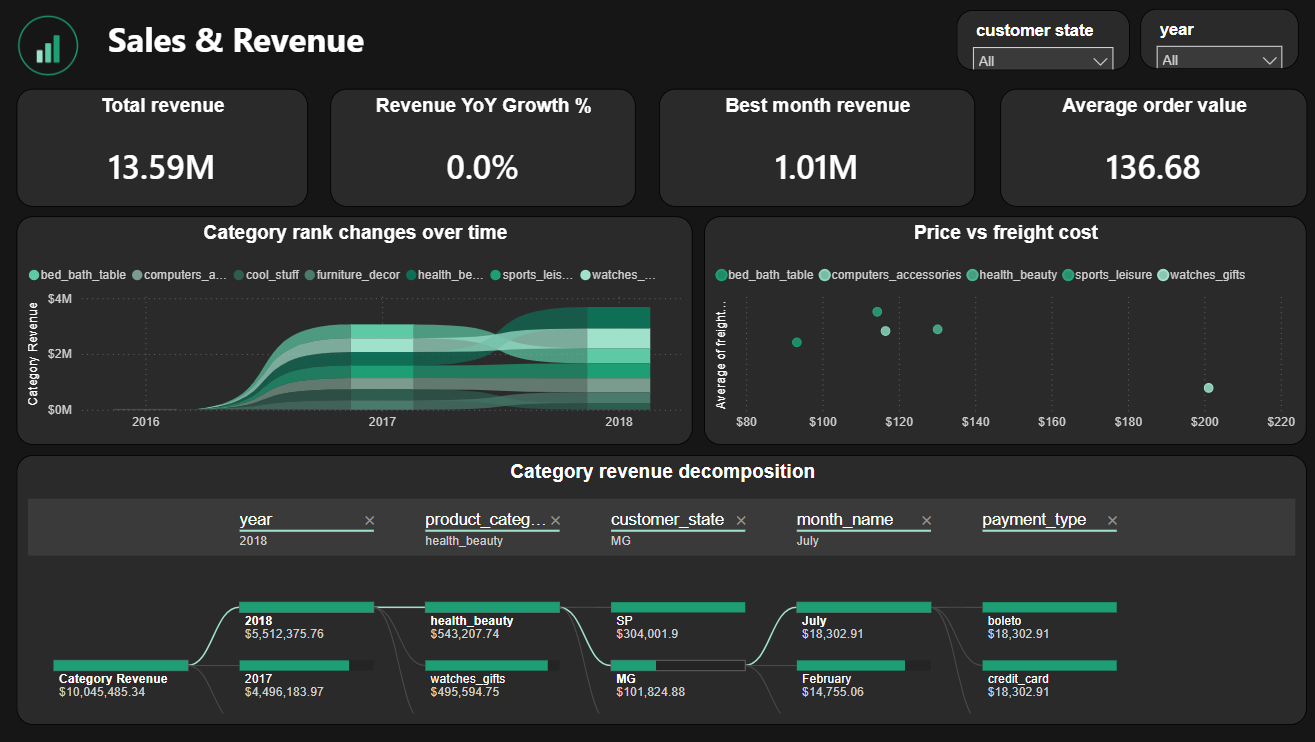

What the dashboard file says about the page in this screenshot:
{"tool":"powerbi","page":{"name":"Sales & Revenue","canvas":[1280,720],"ordinal":2},"visuals":[{"type":"cardVisual","title":"Total revenue","fields":{"Data":["_Measures.Total Revenue"]},"box":[16.7,85.9,282.2,114.2],"z":0},{"type":"cardVisual","title":"Average order value","fields":{"Data":["_Measures.Average Order Value"]},"box":[969.8,85.9,297.6,114.2],"z":1000},{"type":"cardVisual","title":"Best month revenue","fields":{"Data":["_Measures.Best Month Revenue"]},"box":[640.1,85.9,306.6,114.2],"z":2000},{"type":"slicer","fields":{"Values":["dim_date.year"]},"box":[1106.1,8.2,153.7,58.2],"z":3000},{"type":"slicer","fields":{"Values":["dim_customer.customer_state"]},"box":[927.5,10,167.7,58.2],"z":4000},{"type":"ribbonChart","title":"Category rank changes over time","fields":{"Category":["dim_date.year"],"Series":["dim_product.product_category_name_english"],"Y":["_Measures.Category Revenue"]},"box":[16.7,209.1,655.5,221.9],"z":5000},{"type":"decompositionTreeVisual","title":"Category revenue decomposition","fields":{"Analyze":["_Measures.Category Revenue"],"ExplainBy":["dim_date.year","dim_product.product_category_name_english","dim_customer.customer_state","dim_date.month_name","dim_payment_type.payment_type"]},"box":[16.7,441.3,1250.8,261.7],"z":6000},{"type":"scatterChart","title":"Price vs freight cost","fields":{"Series":["dim_product.product_category_name_english"],"X":["fact_order_items.price"],"Y":["Avg(fact_order_items.freight_value)"]},"box":[683.7,209.1,583.7,221.9],"z":7000},{"type":"cardVisual","title":"Revenue YoY Growth %","fields":{"Data":["_Measures.Revenue YoY Growth %"]},"box":[320.7,85.9,296.3,114.2],"z":8000},{"type":"textbox","box":[100.5,10.9,397.5,95],"z":9000},{"type":"image","box":[0,10.9,95.7,66.6],"z":10000}]}

Visuals, with their boxes in screenshot pixels (x1, y1, x2, y2), scaled from the page's 1280x720 canvas onto the 1315x742 screenshot:
"Total revenue" cardVisual: region(17, 89, 307, 206)
"Average order value" cardVisual: region(996, 89, 1302, 206)
"Best month revenue" cardVisual: region(658, 89, 973, 206)
slicer - dim_date.year: region(1136, 8, 1294, 68)
slicer - dim_customer.customer_state: region(953, 10, 1125, 70)
"Category rank changes over time" ribbonChart: region(17, 215, 691, 444)
"Category revenue decomposition" decompositionTreeVisual: region(17, 455, 1302, 724)
"Price vs freight cost" scatterChart: region(702, 215, 1302, 444)
"Revenue YoY Growth %" cardVisual: region(329, 89, 634, 206)
textbox: region(103, 11, 512, 109)
image: region(0, 11, 98, 80)
